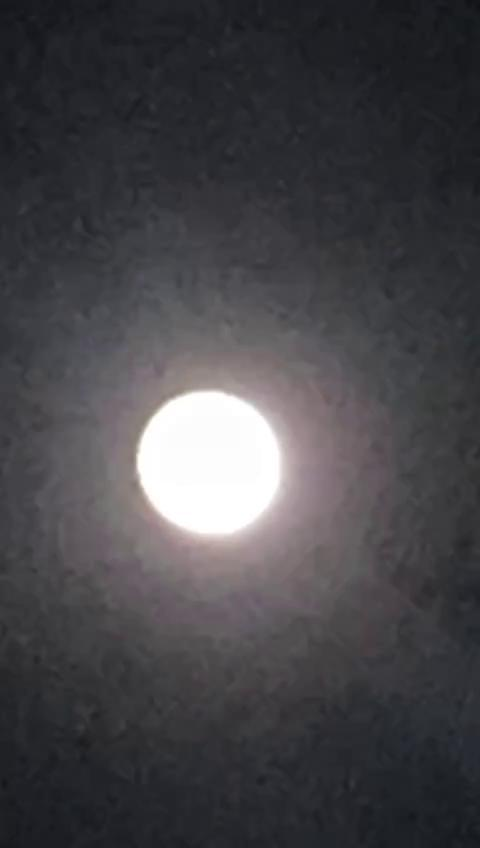moon: (115, 370, 287, 561)
